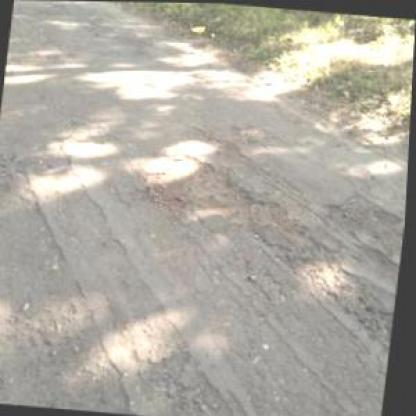pothole: (143, 150, 269, 227), (323, 190, 408, 241)
